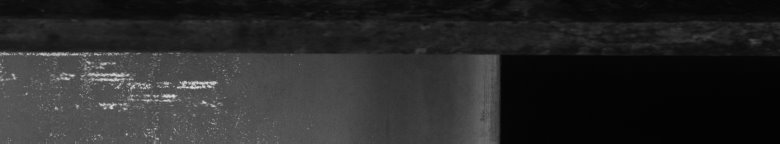kb: (4, 0, 497, 144)
